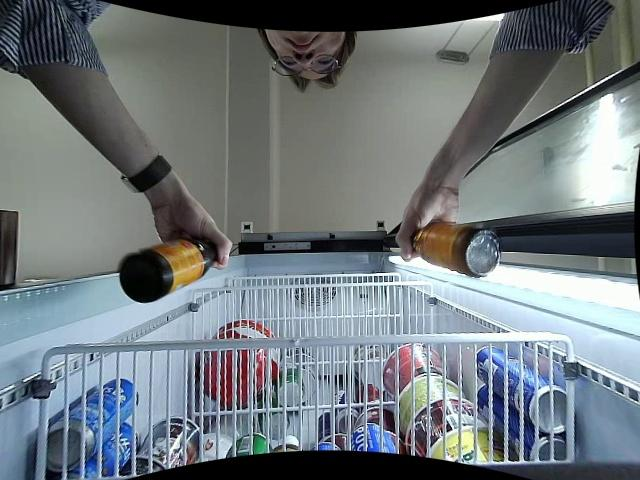00_hand: (152, 202, 234, 271), (395, 182, 458, 261)
17_vita500: (120, 237, 218, 304), (411, 220, 502, 278)
